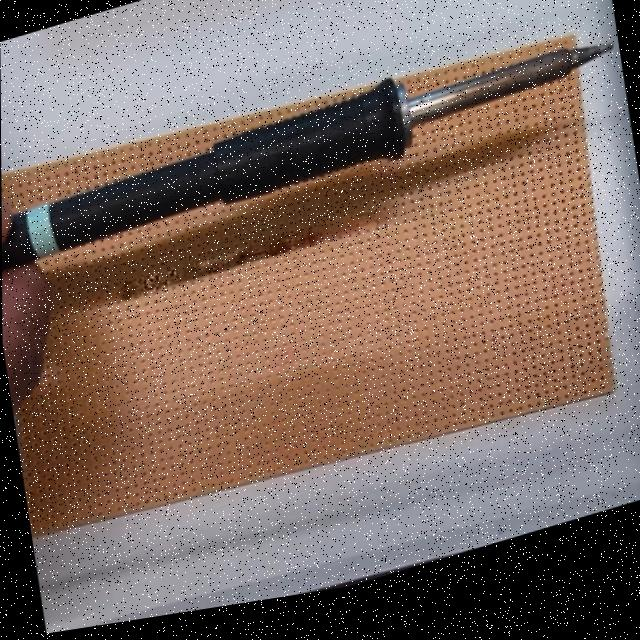soldering_iron: (1, 8, 621, 273)
